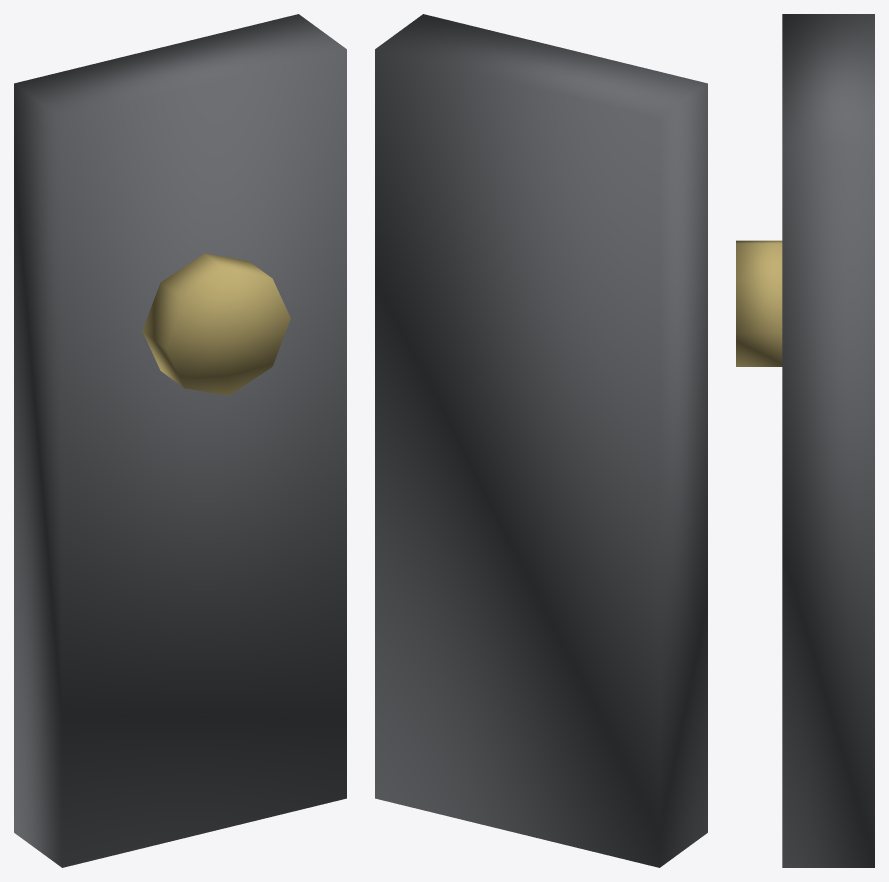
File: elevator_call_10.glb
3 views of the same model, side by side, from view 1: azimuth 30°, elevation 25°; view 2: azimuth 150°, elevation 25°; view 3: azimuth 270°, elevation 25° (orthographic). The views are drawn at different scales.
Visible parts, largest first — view 1: world; view 2: world; view 3: world.
Boxes of the visible parts, <box> form: world: <box>14,14,346,867</box>; world: <box>375,14,707,867</box>; world: <box>736,14,874,867</box>.
Bounding box in the file's own units: 0.1536 × 0.3864 × 0.0675.
